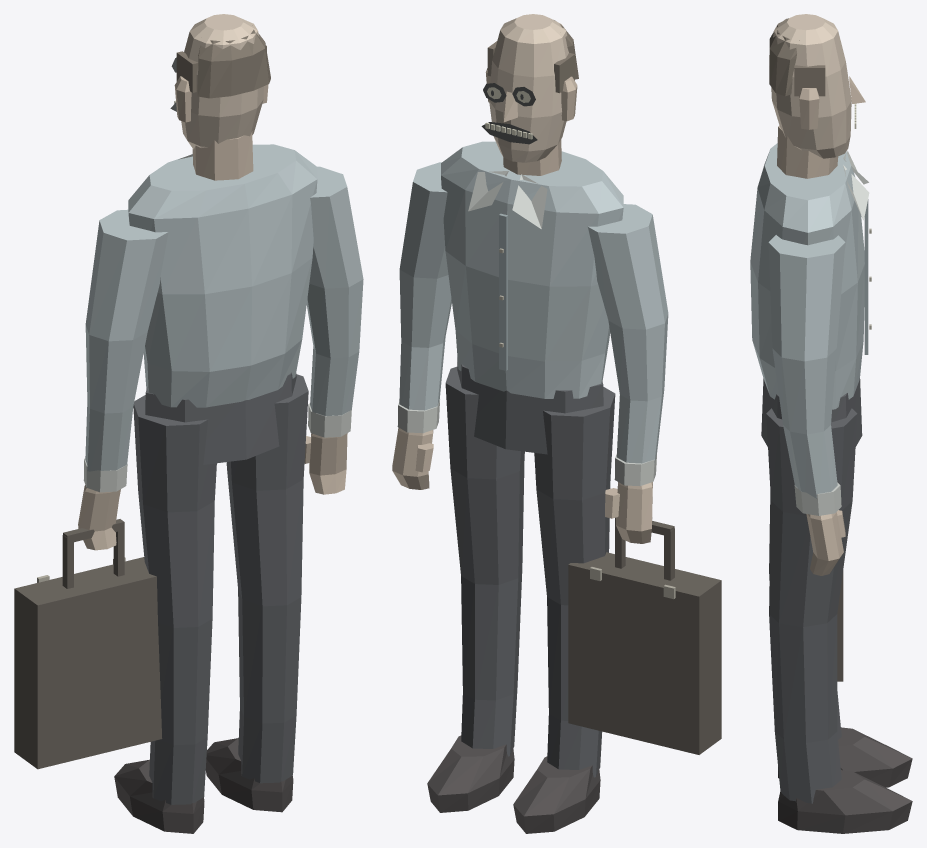
The model's file is 01_grinning_clerk.gltf.
3 views of the same model, side by side, from view 1: azimuth 30°, elevation 25°; view 2: azimuth 150°, elevation 25°; view 3: azimuth 270°, elevation 25° (orthographic). The views are drawn at different scales.
Visible parts, largest first — view 1: shirt_torso_5, briefcase_28, L_trouser_0, R_trouser_2, left_sleeve_6, right_sleeve_10, pelvis_4, head_15, hair_back_24, leather_shoe_1, leather_shoe_3, neck_14 (+5 smaller); view 2: shirt_torso_5, briefcase_28, R_trouser_2, L_trouser_0, left_sleeve_6, right_sleeve_10, head_15, pelvis_4, leather_shoe_1, leather_shoe_3, hand_8, hand_12 (+6 smaller); view 3: R_trouser_2, right_sleeve_10, shirt_torso_5, head_15, leather_shoe_3, leather_shoe_1, hand_12, neck_14, hair_back_24, pelvis_4, cuff_11, temple_hair_26 (+4 smaller).
Boxes of the visible parts, box(x1,y1,x2,y2) form: shirt_torso_5: box(128, 144, 317, 407); briefcase_28: box(14, 557, 162, 769); L_trouser_0: box(133, 395, 216, 804); R_trouser_2: box(226, 374, 308, 783); left_sleeve_6: box(85, 209, 168, 471); right_sleeve_10: box(306, 166, 363, 415); pelvis_4: box(145, 372, 296, 464); head_15: box(181, 14, 263, 149); hair_back_24: box(197, 25, 270, 98); leather_shoe_1: box(114, 759, 204, 833); leather_shoe_3: box(205, 738, 293, 812); neck_14: box(192, 131, 253, 180); shirt_torso_5: box(441, 141, 623, 398); briefcase_28: box(568, 552, 721, 754); R_trouser_2: box(445, 366, 524, 756); L_trouser_0: box(534, 387, 615, 777); left_sleeve_6: box(588, 204, 668, 463); right_sleeve_10: box(399, 162, 451, 410); head_15: box(489, 14, 568, 162); pelvis_4: box(457, 357, 603, 454); leather_shoe_1: box(513, 756, 600, 833); leather_shoe_3: box(427, 735, 514, 812); hand_8: box(616, 482, 652, 543); hand_12: box(392, 427, 433, 489); R_trouser_2: box(766, 408, 857, 803); right_sleeve_10: box(768, 235, 845, 498); shirt_torso_5: box(750, 143, 864, 409); head_15: box(771, 14, 851, 158); leather_shoe_3: box(778, 770, 912, 833); leather_shoe_1: box(778, 727, 912, 787); hand_12: box(806, 512, 843, 575); neck_14: box(777, 125, 838, 178); hair_back_24: box(769, 18, 799, 96); pelvis_4: box(761, 378, 862, 446); cuff_11: box(794, 482, 841, 515); temple_hair_26: box(794, 65, 825, 96).
Size of the model in its own units: 0.77 by 1.78 by 0.338.
